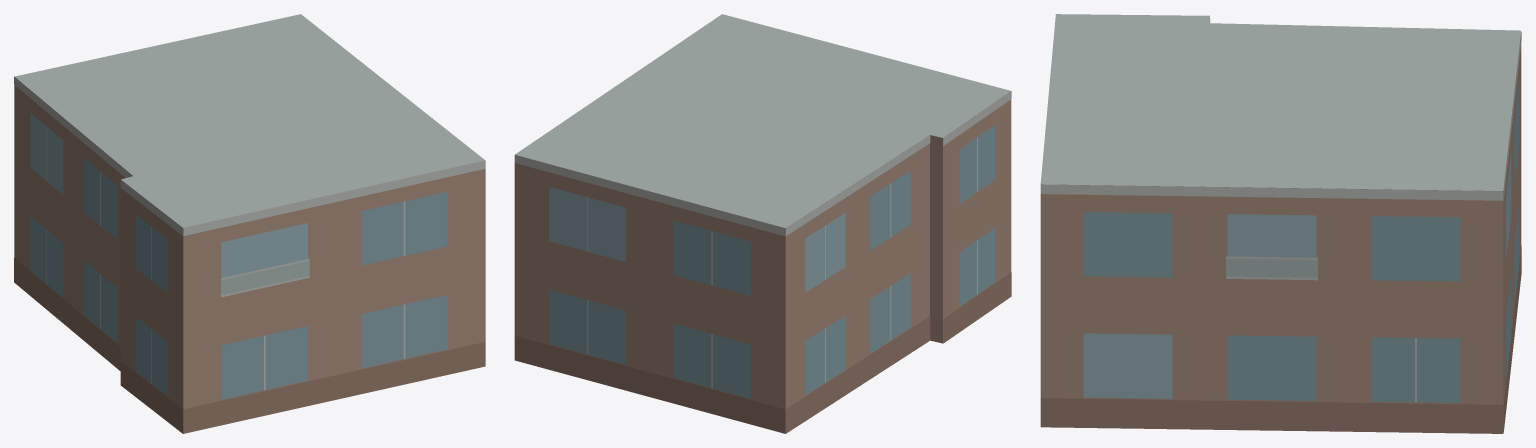
The model's file is survey-upis-32849206.glb.
The picture shows the model from 3 angles, left to right: view 1: azimuth 30°, elevation 25°; view 2: azimuth 150°, elevation 25°; view 3: azimuth 270°, elevation 25°; orthographic projection. The views are drawn at different scales.
Visible parts, largest first — view 1: survey-upis-32849206.tmp; view 2: survey-upis-32849206.tmp; view 3: survey-upis-32849206.tmp.
Part boxes in pixels (<box>): survey-upis-32849206.tmp: <box>14,14,485,433</box>; survey-upis-32849206.tmp: <box>514,14,1011,433</box>; survey-upis-32849206.tmp: <box>1040,14,1521,433</box>.
Bounding box in the file's own units: 9.55 × 6.1 × 10.96.
